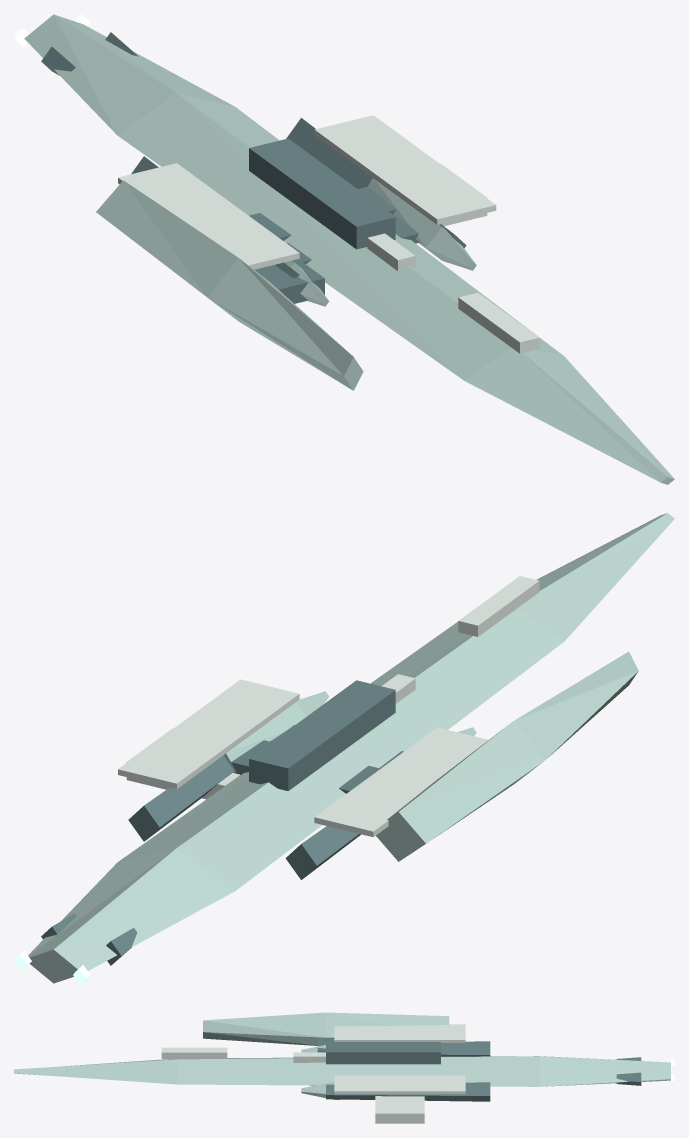
3 views of the same model, one above another, from view 1: azimuth 30°, elevation 25°; view 2: azimuth 150°, elevation 25°; view 3: azimuth 270°, elevation 25° (orthographic). The views are drawn at different scales.
Size of the model in its own units: 5.64 by 1.22 by 18.51.
